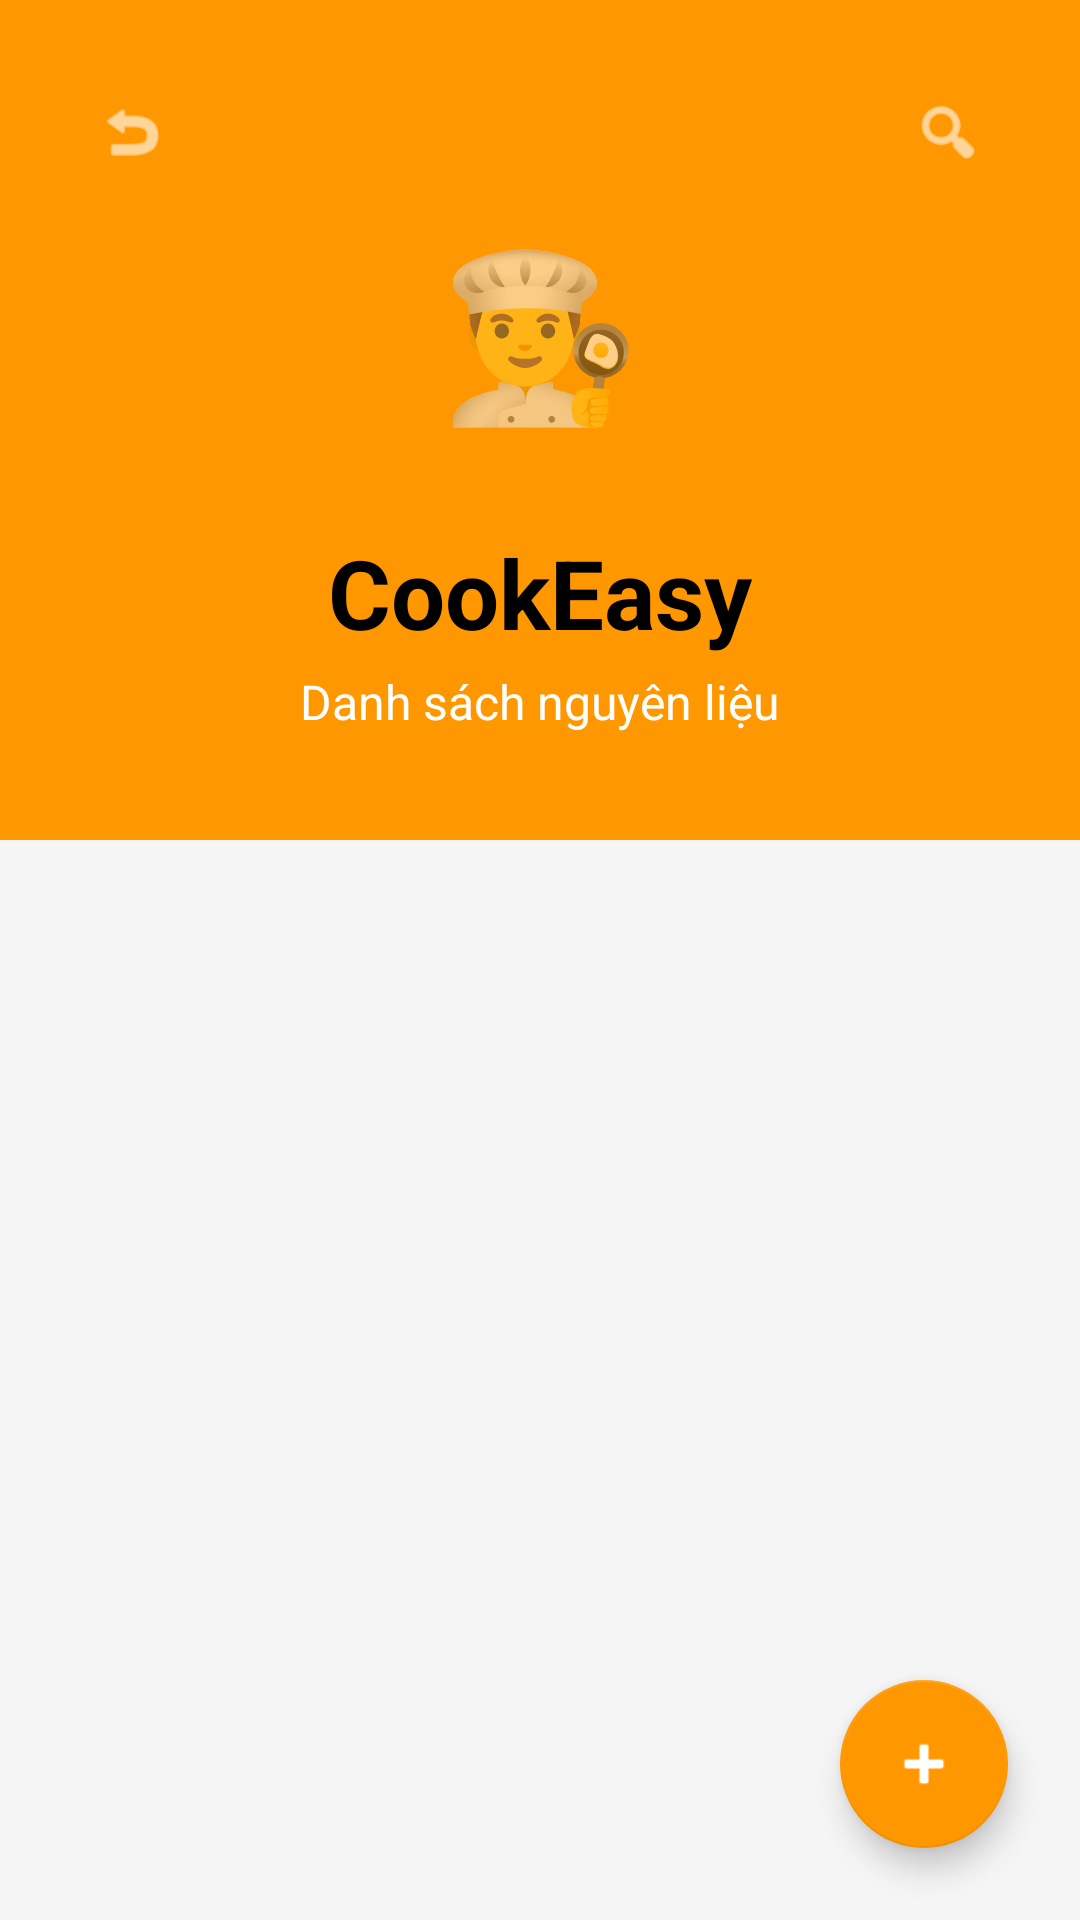

Where to tap for icons on this 1080 x 1920 app screen, as point (x, y):
add: point (924, 1764)
revert: point (133, 132)
search: point (948, 132)
